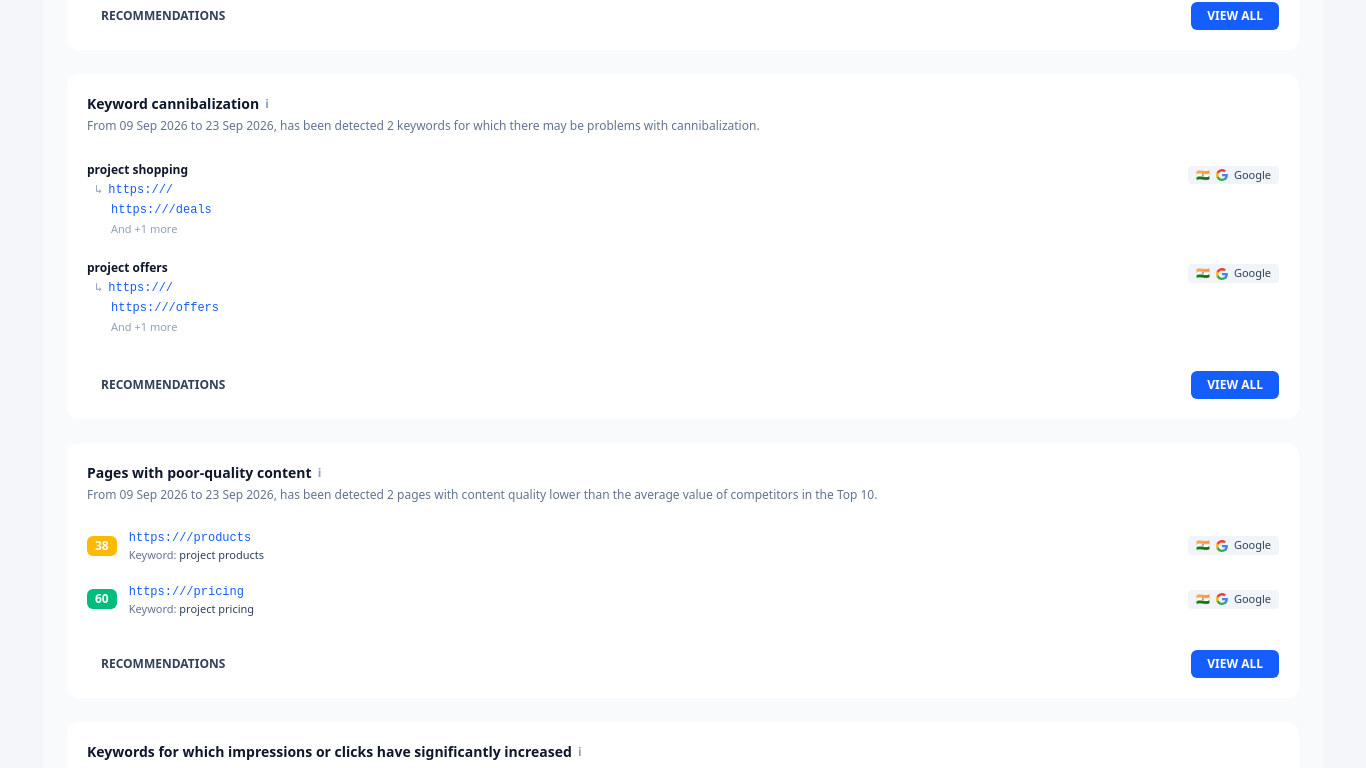
Test: ProjectInsightsView Component › opens and closes the Keyword Cannibalization recommendations modal
(page scrolled)
Click the button "RECOMMENDATIONS" below "project shopping" at (163, 385), box [87, 371, 239, 399]
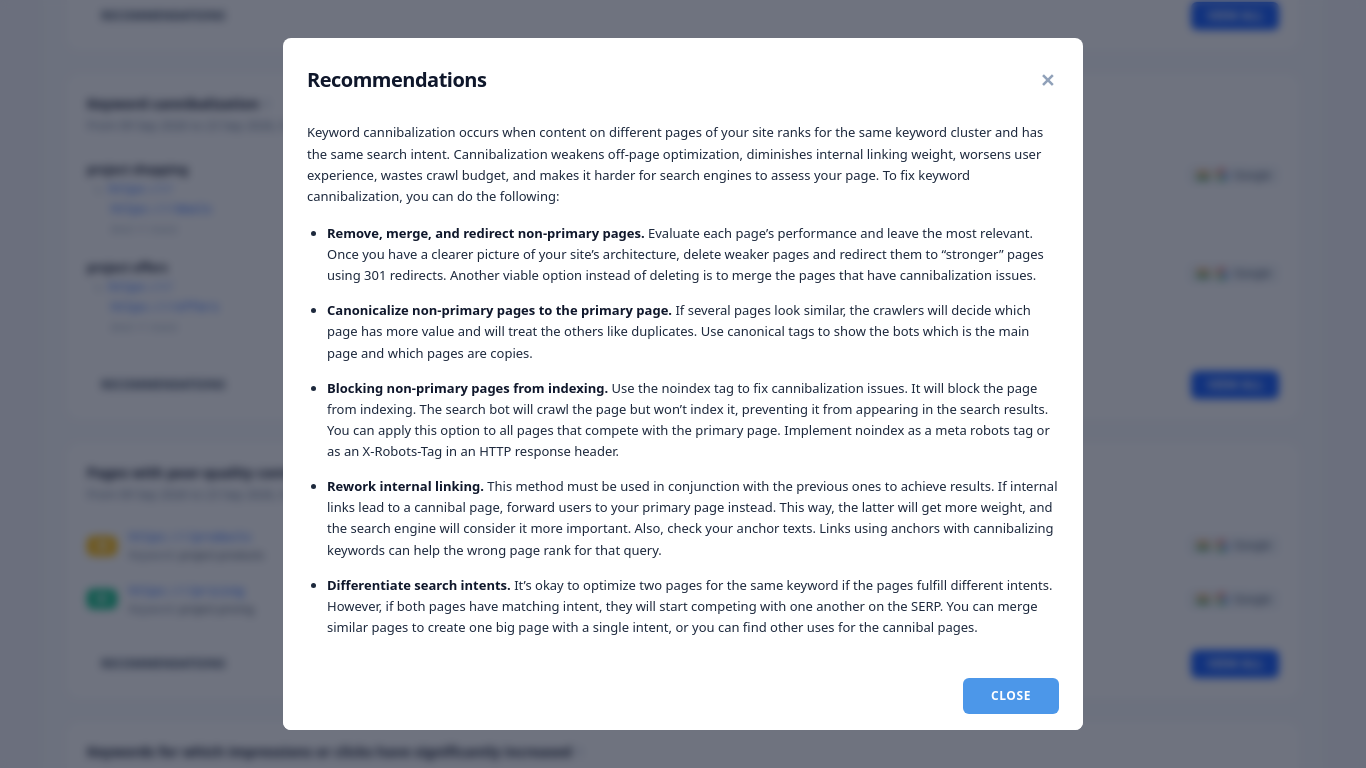
Expected: the dialog is shown
Expected: the text "Remove, merge, and redirect non-primary pages." is shown, [327, 224, 645, 242]
Click the button "CLOSE" at (1011, 696), box [963, 678, 1059, 714]
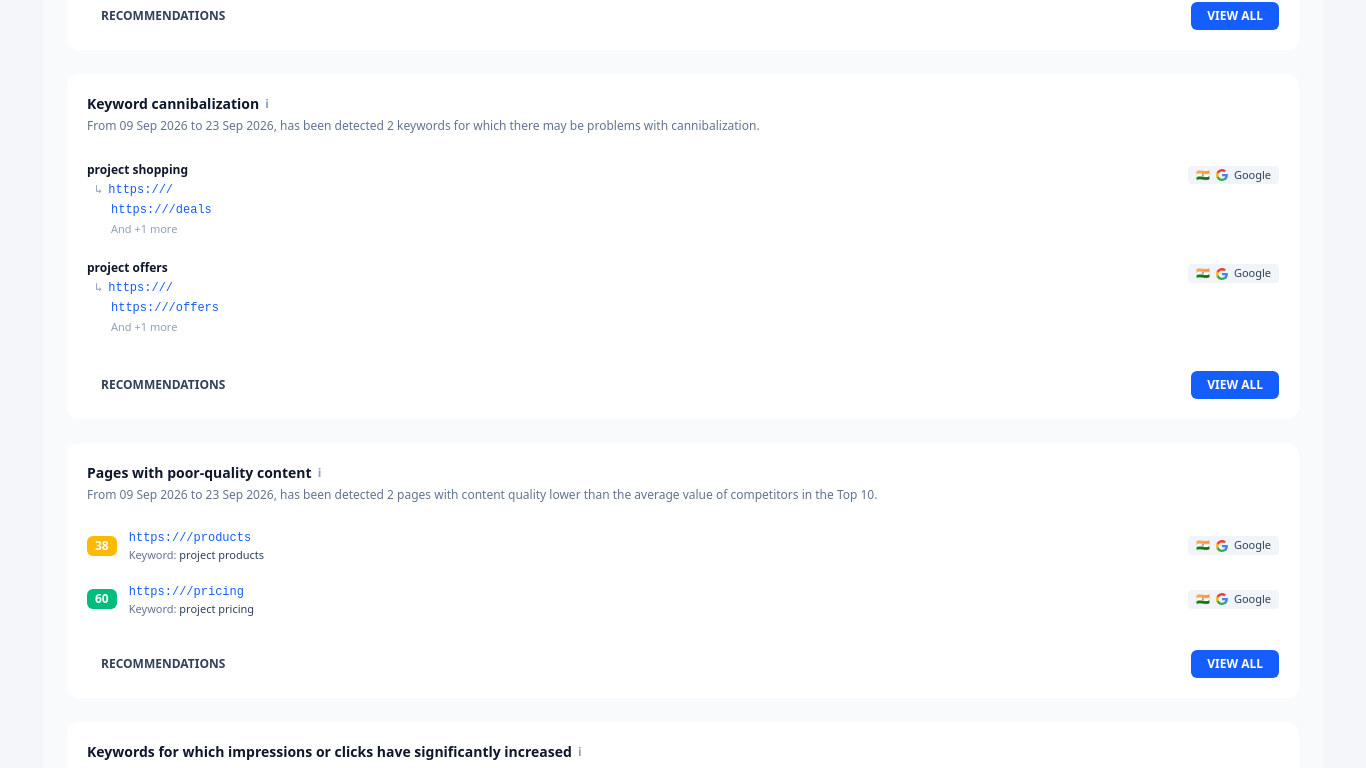
Expected: the dialog is gone
